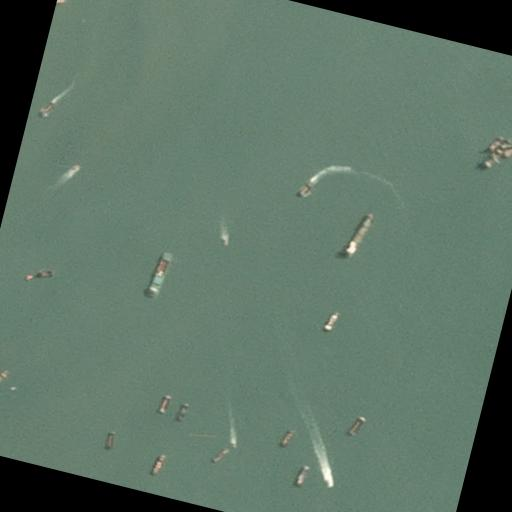ship: (142, 250, 173, 302), (340, 211, 372, 260), (343, 412, 367, 441), (321, 309, 340, 335), (148, 452, 166, 479), (35, 98, 55, 122), (290, 464, 308, 490), (294, 179, 314, 199), (208, 446, 228, 466), (276, 429, 294, 450), (0, 362, 9, 404), (174, 401, 190, 424), (154, 393, 169, 416), (319, 470, 336, 489), (102, 431, 116, 452), (215, 230, 231, 248), (226, 436, 238, 448), (70, 163, 80, 173), (7, 384, 16, 394)
